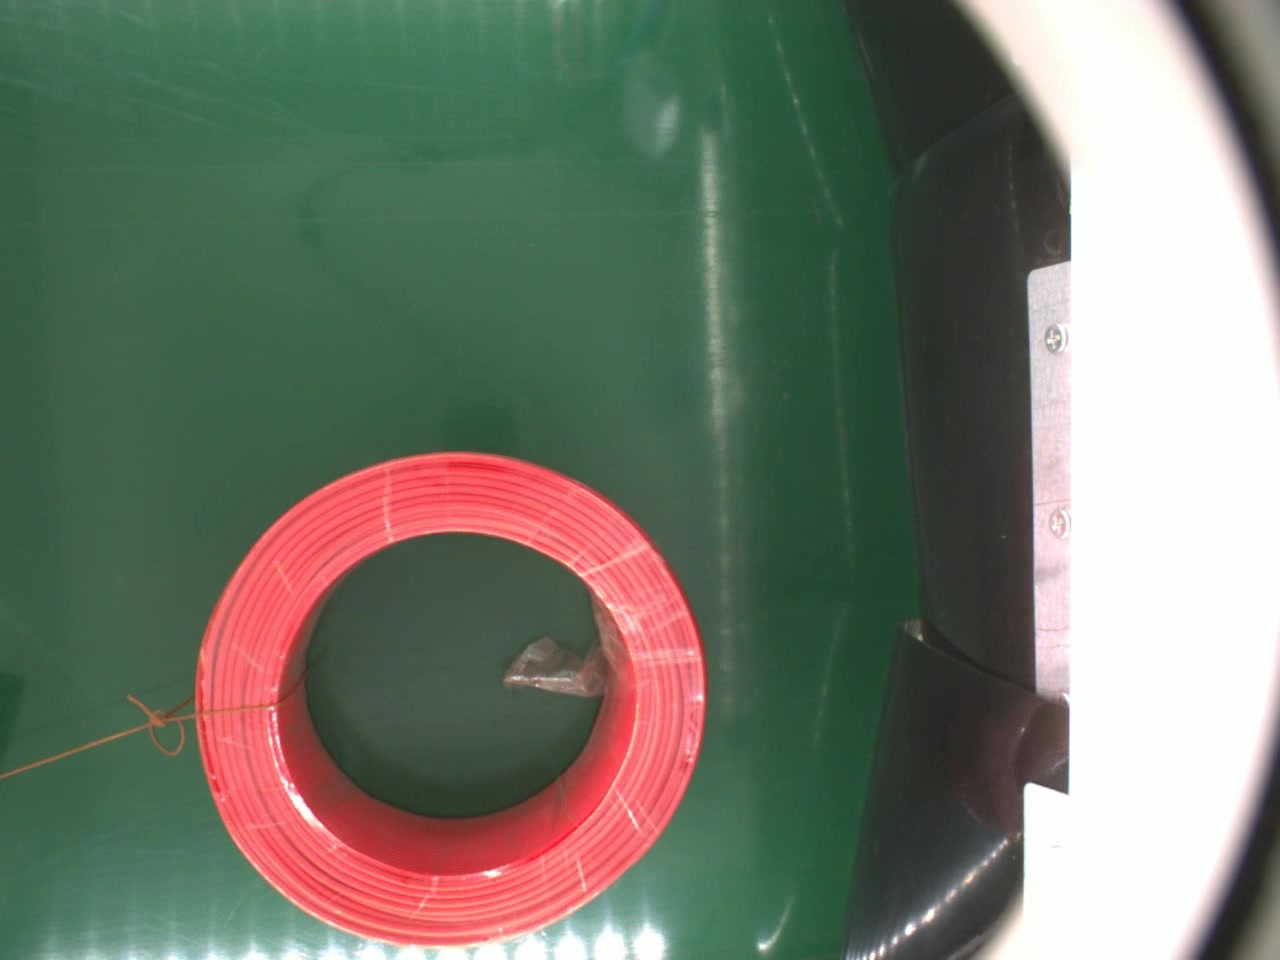red: (194, 446, 709, 948)
